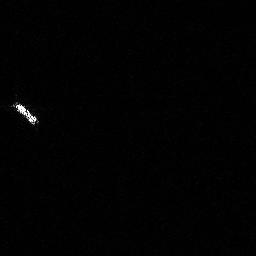ship: (8, 99, 42, 128)
